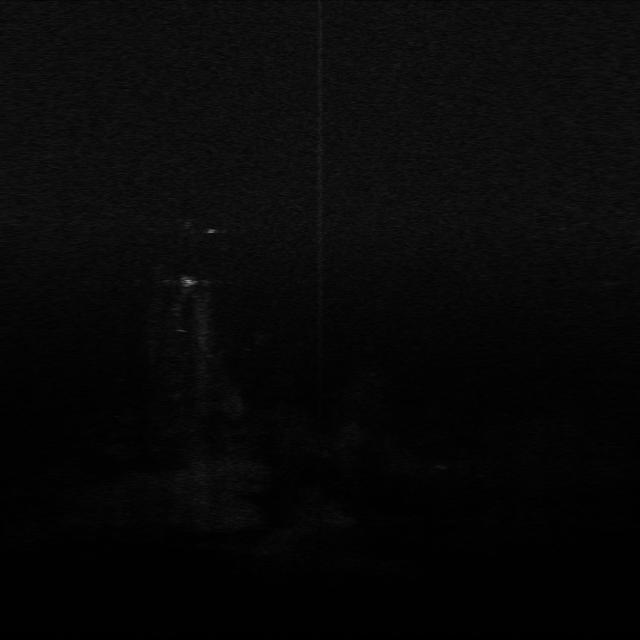rov: (180, 274, 198, 288)
